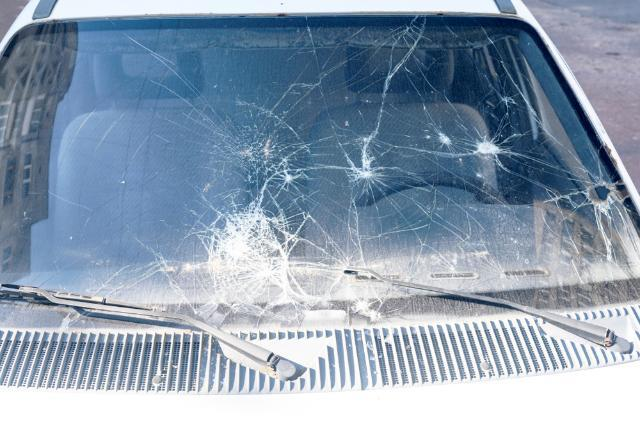glass shatter: (0, 17, 640, 329)
